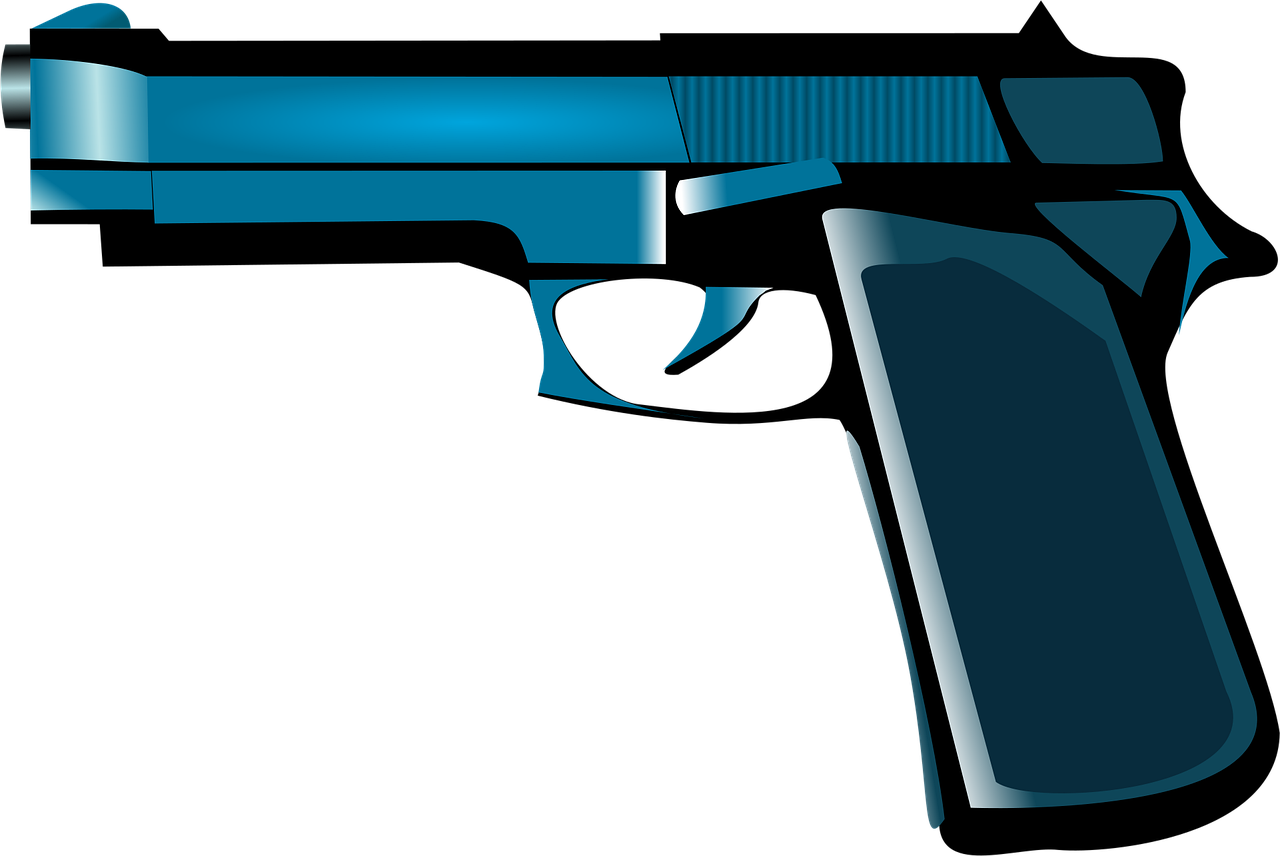gun_040.png: (14, 6, 1280, 856)
